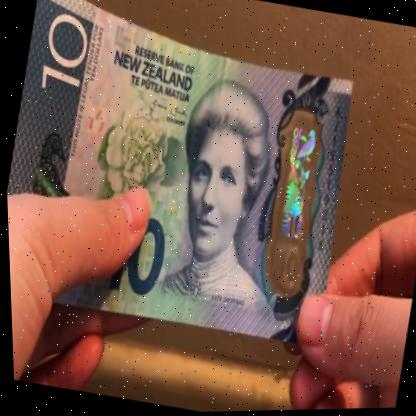10B: (256, 118, 326, 287)
